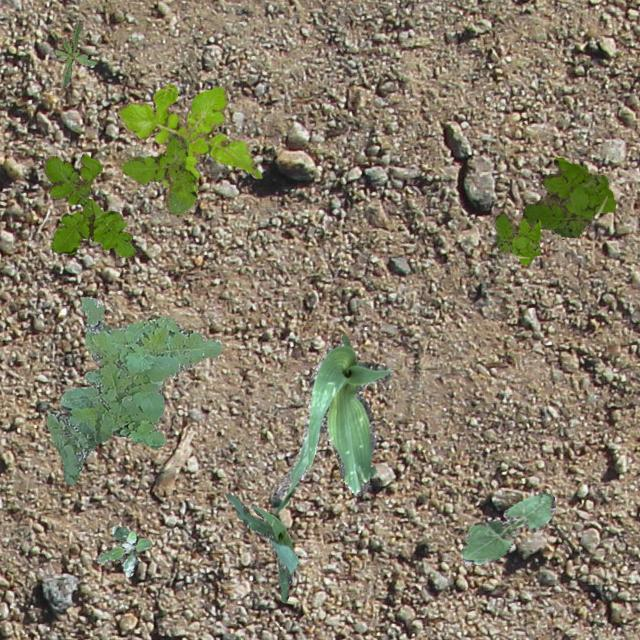crop: (270, 333, 392, 514), (225, 492, 297, 602), (461, 492, 554, 564)
weed: (44, 296, 220, 484), (117, 82, 260, 192), (44, 152, 136, 256), (522, 156, 614, 236), (118, 132, 196, 214), (54, 18, 96, 86), (96, 524, 150, 576), (494, 212, 540, 264)
